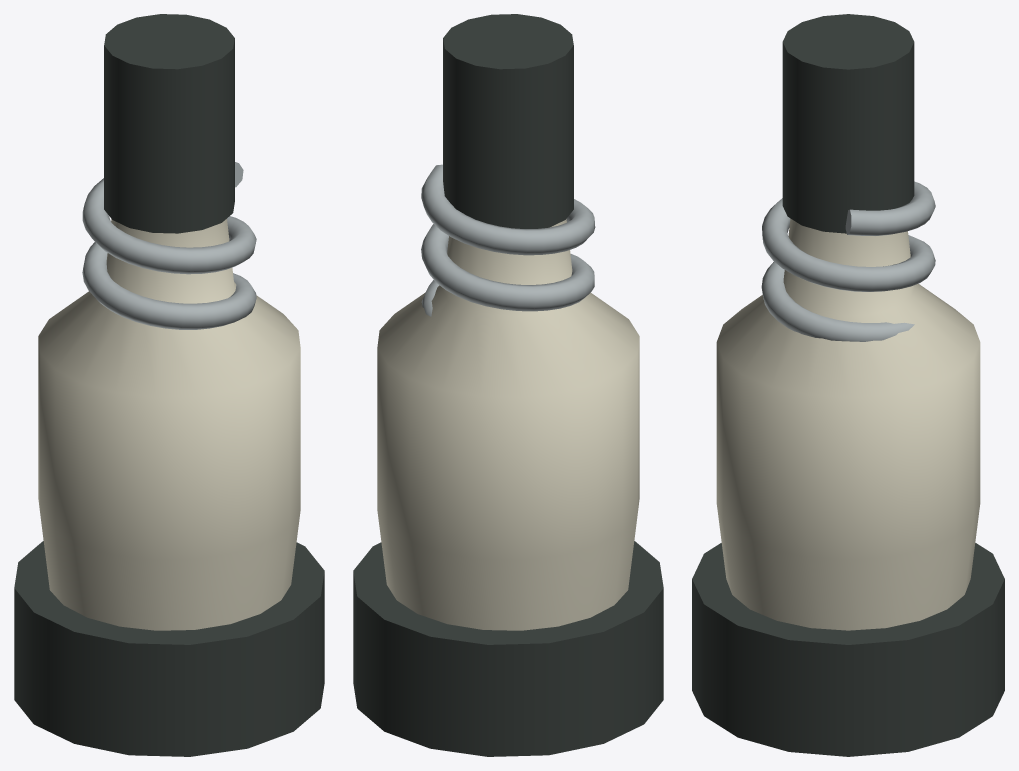
File: Vacuum Tube-CbmON6Jp.glb
3 renders of one model, left to right at view 1: azimuth 30°, elevation 25°; view 2: azimuth 150°, elevation 25°; view 3: azimuth 270°, elevation 25°, orthographic.
Parts seen in each view (by area): view 1: vacuum-tube; view 2: vacuum-tube; view 3: vacuum-tube.
Boxes of the visible parts, x1,y1,x2,y2 form: vacuum-tube: (14,14,324,756); vacuum-tube: (353,14,663,756); vacuum-tube: (692,14,1004,756).
Size of the model in its own units: 0.038 by 0.087 by 0.038.
